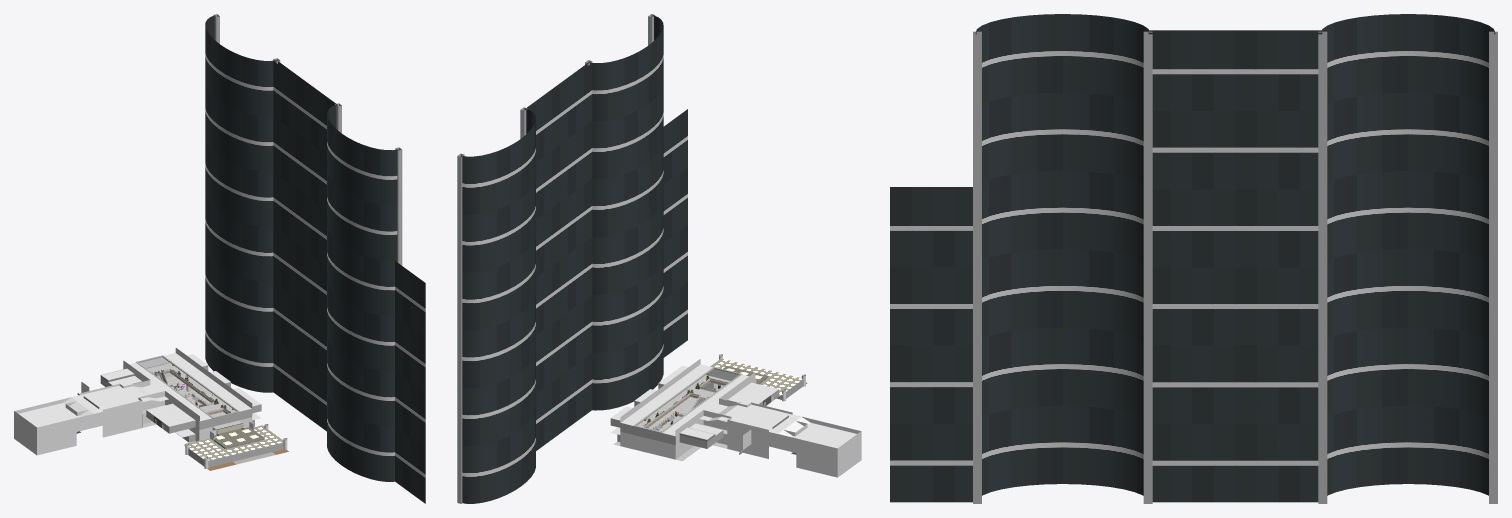
Rendered from mall.gltf.
The picture shows the model from 3 angles, left to right: view 1: azimuth 30°, elevation 25°; view 2: azimuth 150°, elevation 25°; view 3: azimuth 270°, elevation 25°; orthographic projection. The views are drawn at different scales.
Parts seen in each view (by area): view 1: skylight_glass_5, skylight_glass_6, skylight_glass_4, skylight_glass_3, skylight_glass_2, skylight_glass_1, mall_wall__10__2, mall_wall__10__1, mall_wall__13_, mall_wall__12_, mall_wall__10_, mall_wall__11_ (+3 smaller); view 2: skylight_glass_6, skylight_glass_4, skylight_glass_3, skylight_glass_5, skylight_glass_2, skylight_glass_1, mall_wall__11_, mall_wall__11__2, mall_wall__11__1, mall_wall__10__2, mall_wall__10__1, mall_wall__12_ (+5 smaller); view 3: skylight_glass_5, skylight_glass_6, skylight_glass_3, skylight_glass_1, skylight_glass_4, skylight_glass_2, mall_wall__10__2, mall_wall__11_, mall_wall__10_, mall_wall__11__1, mall_wall__13_, mall_wall__11__2 (+8 smaller).
Boxes of the visible parts, x1,y1,x2,y2 form: skylight_glass_5: (327,104,398,260); skylight_glass_6: (205,15,276,171); skylight_glass_4: (205,138,273,282); skylight_glass_3: (205,249,273,392); skylight_glass_2: (327,227,397,371); skylight_glass_1: (327,337,394,481); mall_wall__10__2: (273,60,306,193); mall_wall__10__1: (273,171,303,303); mall_wall__13_: (395,261,425,393); mall_wall__12_: (395,371,425,503); mall_wall__10_: (273,282,303,414); mall_wall__11_: (303,82,337,210); skylight_glass_6: (461,109,535,272); skylight_glass_4: (462,237,535,388); skylight_glass_3: (462,352,535,503); skylight_glass_5: (588,15,663,178); skylight_glass_2: (592,143,663,294); skylight_glass_1: (592,259,663,410); mall_wall__11_: (557,62,592,201); mall_wall__11__2: (560,179,592,317); mall_wall__11__1: (560,295,592,432); mall_wall__10__2: (525,86,560,219); mall_wall__10__1: (536,202,560,335); mall_wall__12_: (663,225,687,357); skylight_glass_5: (975,14,1149,182); skylight_glass_6: (1321,14,1495,182); skylight_glass_3: (1327,327,1488,495); skylight_glass_1: (982,327,1143,495); skylight_glass_4: (1327,171,1488,339); skylight_glass_2: (982,171,1143,339); mall_wall__10__2: (1235,30,1321,189); mall_wall__11_: (1149,30,1235,189); mall_wall__10_: (1235,345,1318,502); mall_wall__11__1: (1152,345,1235,502); mall_wall__13_: (890,187,972,345); mall_wall__11__2: (1152,189,1235,345).
Bounding box in the file's own units: 172 × 192 × 225.
